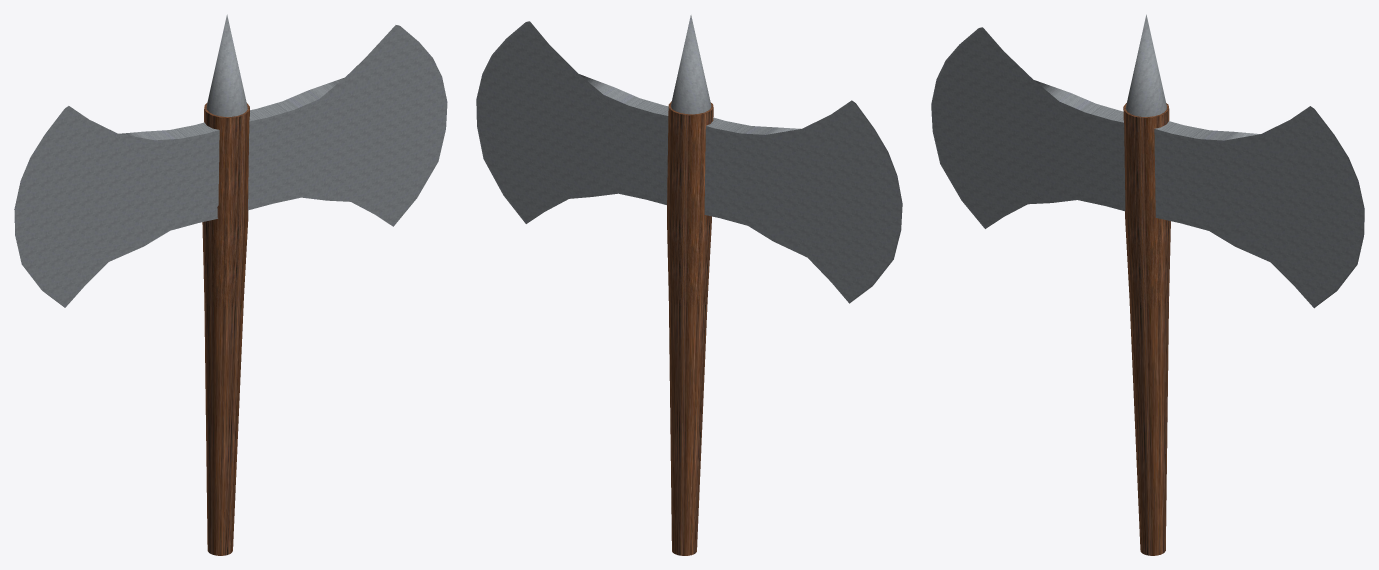
Rendered from axe.fbx.
The picture shows the model from 3 angles, left to right: view 1: azimuth 30°, elevation 25°; view 2: azimuth 150°, elevation 25°; view 3: azimuth 330°, elevation 25°; orthographic projection.
Visible parts, largest first — view 1: polySurface8; view 2: polySurface8; view 3: polySurface8.
Boxes of the visible parts, <box> form: polySurface8: <box>14,14,447,555</box>; polySurface8: <box>476,15,902,555</box>; polySurface8: <box>931,14,1364,555</box>.
Bounding box in the file's own units: 4.48 × 5.35 × 0.4448.
